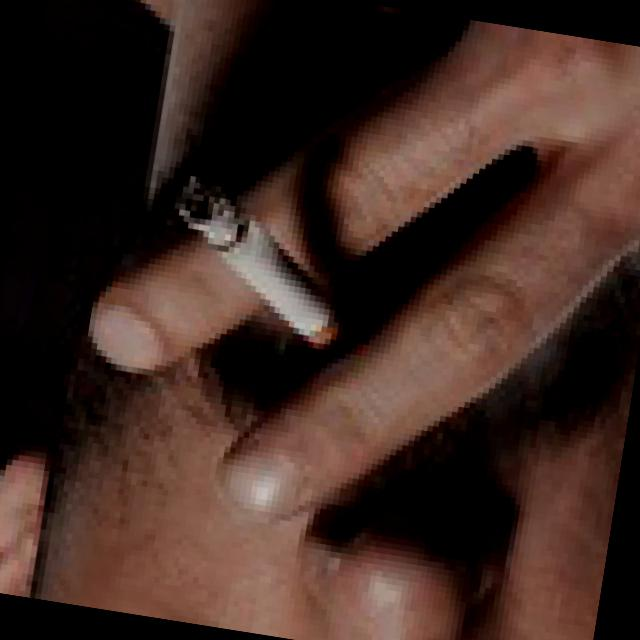smoke: (158, 175, 350, 357)
